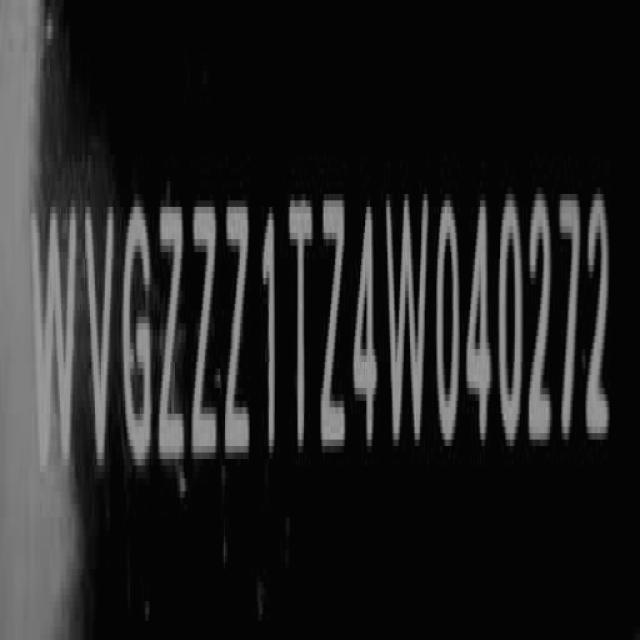0: (436, 189, 461, 457), (500, 192, 525, 454)
1: (260, 185, 279, 472)
2: (588, 186, 614, 448), (528, 191, 553, 454)
4: (354, 190, 382, 464), (464, 189, 491, 455)
7: (556, 184, 580, 452)
G: (124, 194, 154, 484)
T: (288, 184, 314, 455)
V: (83, 192, 118, 490)
W: (32, 193, 79, 495), (388, 183, 430, 460)
Z: (192, 186, 222, 480), (157, 188, 185, 481), (319, 183, 347, 468), (225, 189, 253, 472)
